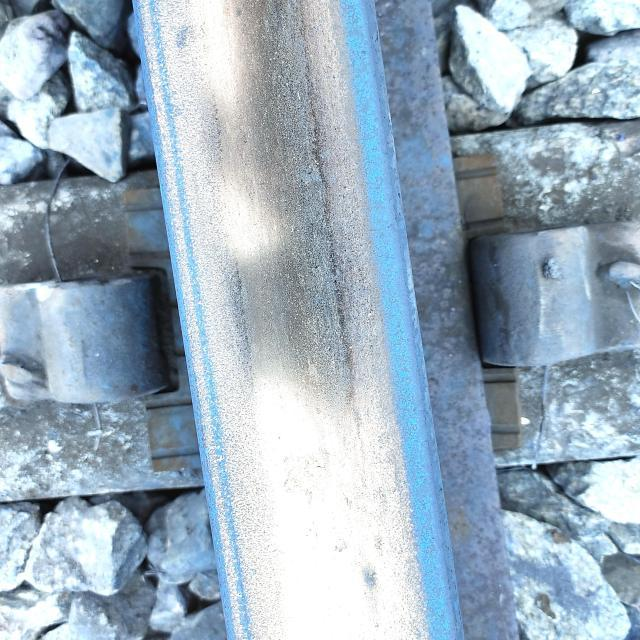Missing Fastener: (457, 184, 640, 404), (0, 230, 182, 446)
